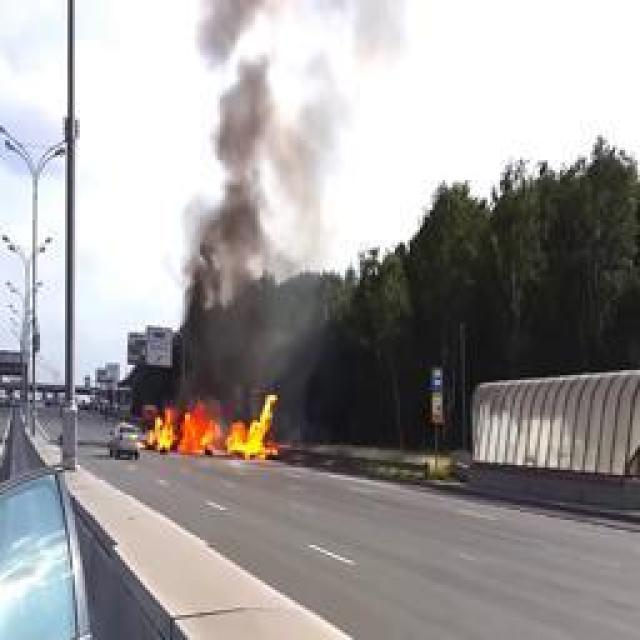Fire: (145, 395, 280, 460)
